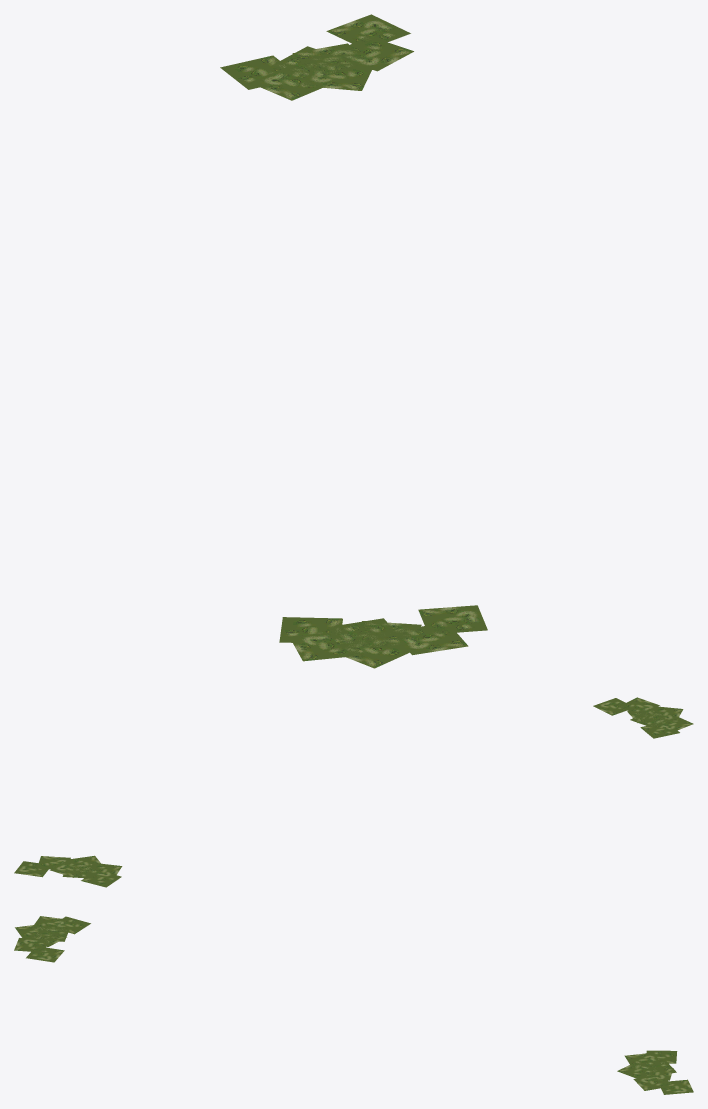
Rendered from pers_gardens_water_lillies.glb.
3 renders of one model, top to bottom at view 1: azimuth 30°, elevation 25°; view 2: azimuth 150°, elevation 25°; view 3: azimuth 270°, elevation 25°, orthographic. The views are drawn at different scales.
Visible parts, largest first — view 1: pers_gardens_water_lillies; view 2: pers_gardens_water_lillies; view 3: pers_gardens_water_lillies.
Boxes of the visible parts, x1=… form: pers_gardens_water_lillies: x1=220, y1=14, x2=487, y2=668; pers_gardens_water_lillies: x1=14, y1=697, x2=693, y2=887; pers_gardens_water_lillies: x1=14, y1=916, x2=693, y2=1094.
Size of the model in its own units: 31.58 by 4.76e-06 by 50.72.
1 material, 1 textured.
